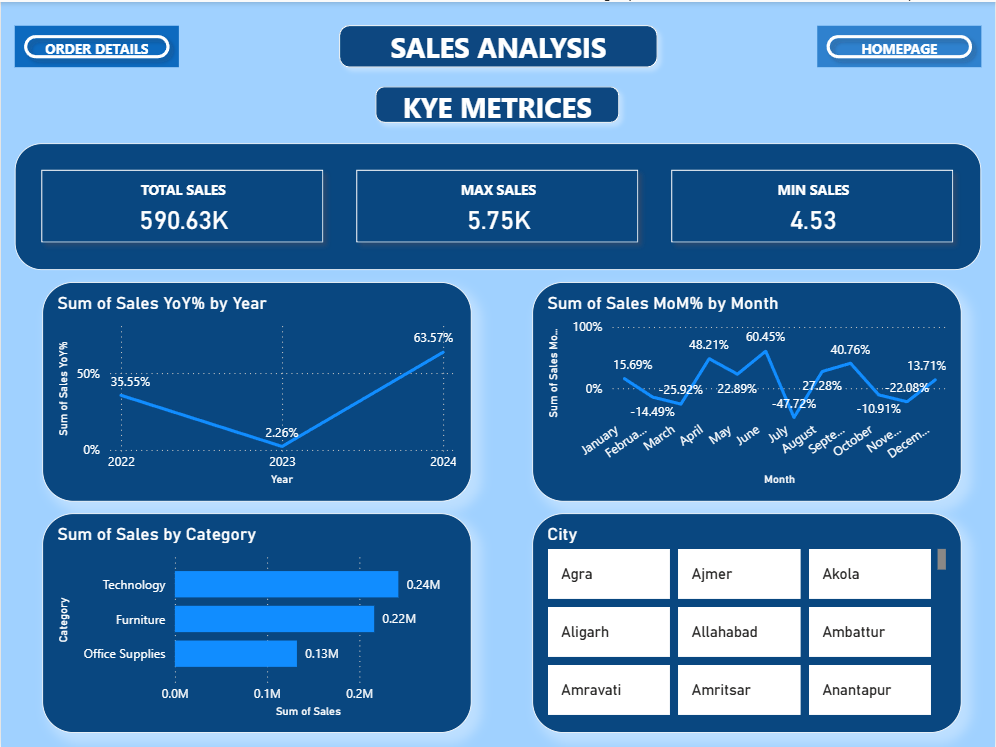

The dashboard page shown, as its layout file describes it:
{"tool":"powerbi","page":{"name":"SALES DETAILS","canvas":[960,720],"ordinal":2},"visuals":[{"type":"shape","box":[316.8,13,325.4,59],"z":0},{"type":"shape","box":[352.8,72,253.4,53.3],"z":1000},{"type":"cardVisual","fields":{"Data":["Dataset.TOTAL SALES","Dataset.MAX SALES","Dataset.MIN SALES"]},"box":[13,136.8,933.1,122.4],"z":2000},{"type":"lineChart","fields":{"Category":["Dataset.Order Date.Variation.Date Hierarchy.Year"],"Y":["Dataset.Sum of Sales YoY%"]},"box":[40.3,270.7,414.7,211.7],"z":3000},{"type":"lineChart","fields":{"Y":["Dataset.Sum of Sales MoM%"],"Category":["Dataset.Order Date.Variation.Date Hierarchy.Month"]},"box":[512.6,270.7,414.7,211.7],"z":4000},{"type":"barChart","fields":{"Y":["Sum(Dataset.Sales)"],"Category":["Dataset.Category"]},"box":[40.3,493.9,414.7,211.7],"z":5000},{"type":"advancedSlicerVisual","fields":{"Values":["Dataset.City"]},"box":[512.6,493.9,414.7,211.7],"z":6000},{"type":"actionButton","title":"REGION","box":[787.7,23,158.4,40.3],"z":7000},{"type":"actionButton","title":"REGION","box":[13,23,158.4,40.3],"z":8000}]}

Visuals, with their boxes in screenshot pixels (x1, y1, x2, y2), scaled from the page's 960x720 canvas onto the 996x747 screenshot:
shape: bbox=(329, 13, 666, 75)
shape: bbox=(366, 75, 629, 130)
cardVisual - Dataset.TOTAL SALES x Dataset.MAX SALES: bbox=(13, 142, 982, 269)
lineChart - Dataset.Order Date.Variation.Date Hierarchy.Year x Dataset.Sum of Sales YoY%: bbox=(42, 281, 472, 500)
lineChart - Dataset.Sum of Sales MoM% x Dataset.Order Date.Variation.Date Hierarchy.Month: bbox=(532, 281, 962, 500)
barChart - Sum(Dataset.Sales) x Dataset.Category: bbox=(42, 512, 472, 732)
advancedSlicerVisual - Dataset.City: bbox=(532, 512, 962, 732)
"REGION" actionButton: bbox=(817, 24, 982, 66)
"REGION" actionButton: bbox=(13, 24, 178, 66)
